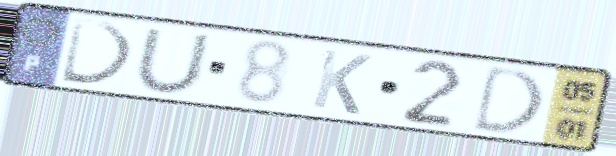2: (399, 57, 469, 131)
8: (232, 37, 295, 109)
D: (57, 15, 140, 89), (468, 62, 548, 136)
K: (308, 46, 376, 118)
U: (131, 26, 215, 98)
